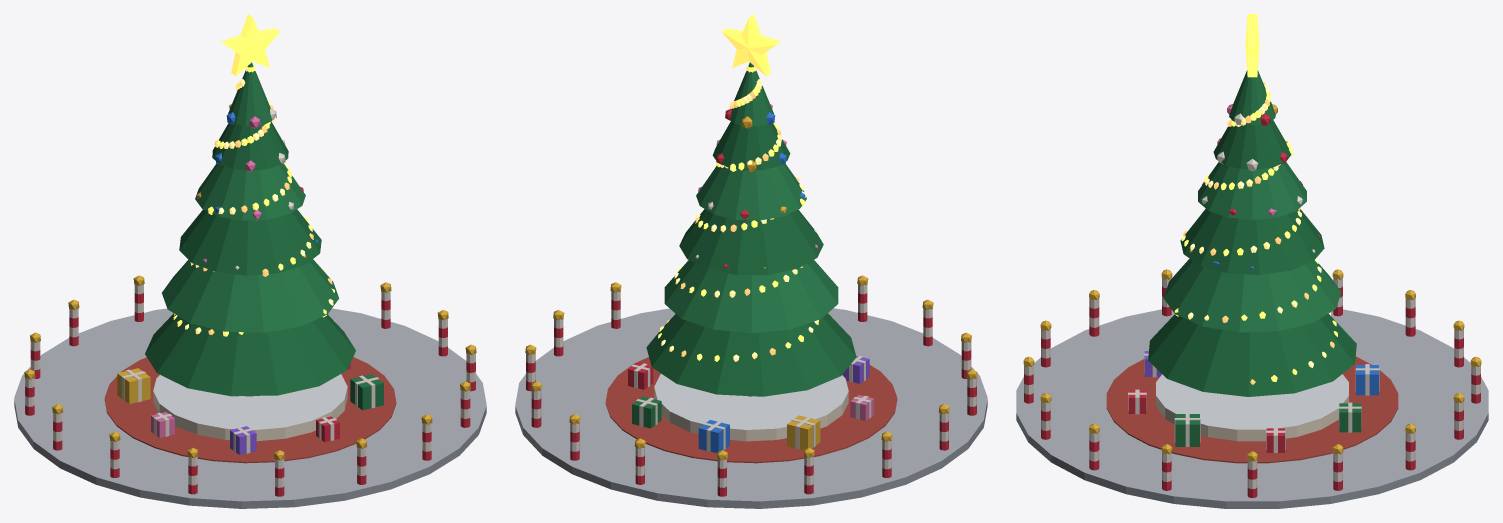
Rendered from TreePlaza.glb.
The picture shows the model from 3 angles, left to right: view 1: azimuth 30°, elevation 25°; view 2: azimuth 150°, elevation 25°; view 3: azimuth 270°, elevation 25°; orthographic projection.
Visible parts, largest first — view 1: TreePlaza_Plaza, TreePlaza_Tree, TreePlaza_Decor, TreePlaza_Star, TreePlaza_Lights; view 2: TreePlaza_Plaza, TreePlaza_Tree, TreePlaza_Decor, TreePlaza_Lights, TreePlaza_Star; view 3: TreePlaza_Plaza, TreePlaza_Tree, TreePlaza_Decor, TreePlaza_Lights, TreePlaza_Star.
Boxes of the visible parts, x1,y1,x2,y2 form: TreePlaza_Plaza: (14,308,486,508); TreePlaza_Tree: (145,62,355,396); TreePlaza_Decor: (24,104,476,496); TreePlaza_Star: (221,14,279,75); TreePlaza_Lights: (173,79,334,336); TreePlaza_Plaza: (515,308,987,508); TreePlaza_Tree: (646,62,856,396); TreePlaza_Decor: (525,104,977,496); TreePlaza_Lights: (658,79,818,361); TreePlaza_Star: (722,14,780,75); TreePlaza_Plaza: (1016,309,1488,508); TreePlaza_Tree: (1148,70,1356,396); TreePlaza_Decor: (1023,104,1481,497); TreePlaza_Lights: (1174,80,1337,384); TreePlaza_Star: (1245,14,1259,77).
Size of the model in its own units: 33.79 by 31.2 by 33.79.
